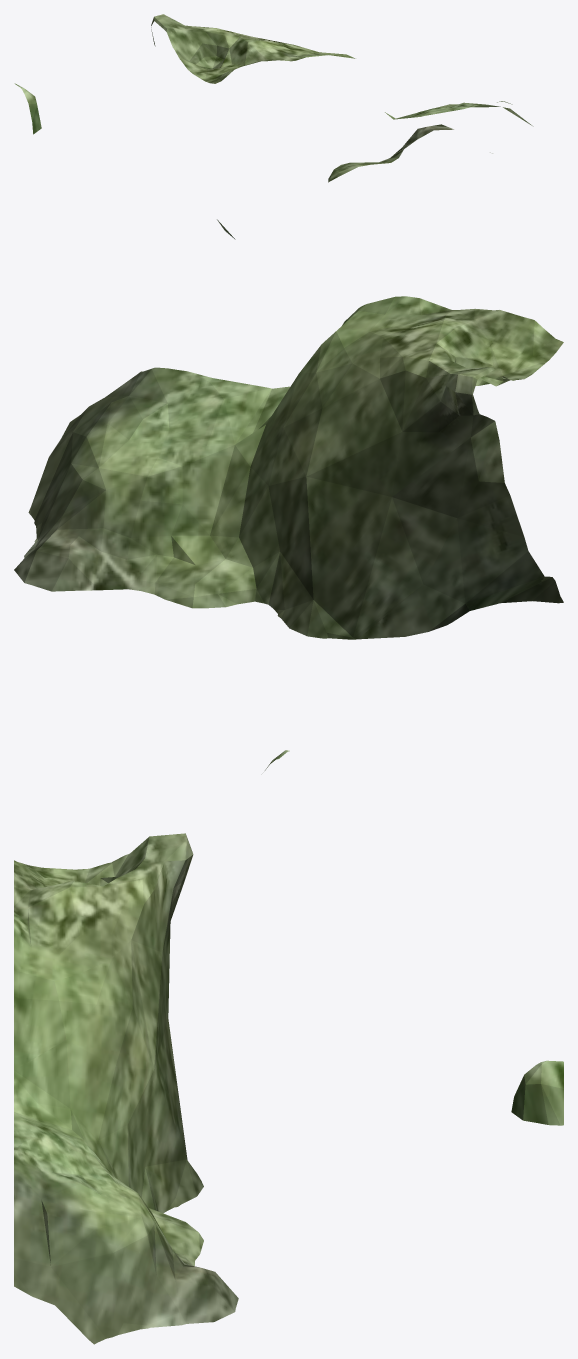
3 views of the same model, one above another, from view 1: azimuth 30°, elevation 25°; view 2: azimuth 150°, elevation 25°; view 3: azimuth 270°, elevation 25° (orthographic). The views are drawn at different scales.
Size of the model in its own units: 2.95 by 1.66 by 2.95.
Materials: 2 (2 with a texture image).
